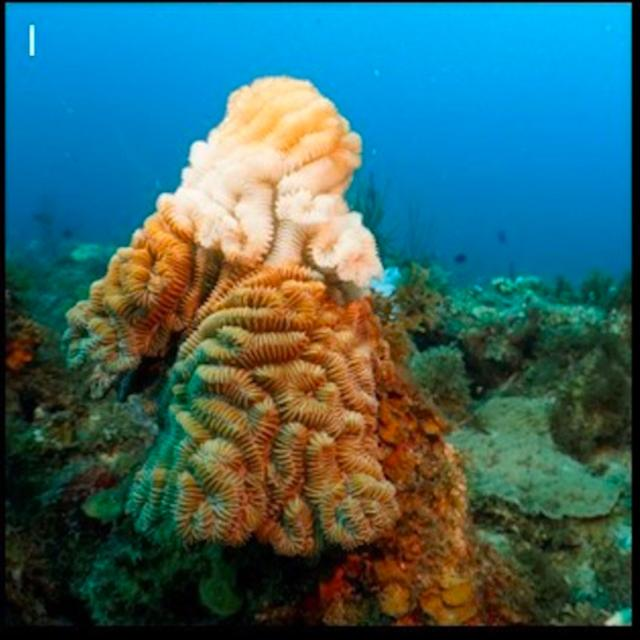Coral: (60, 74, 403, 558)
